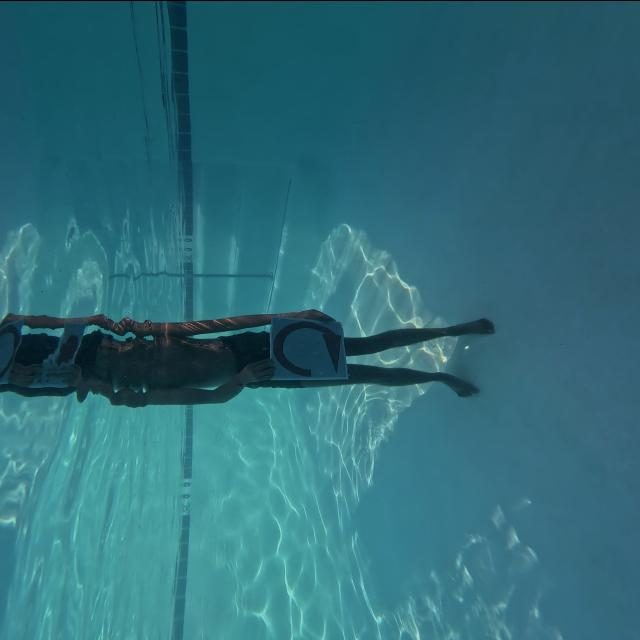red_side: (262, 316, 348, 380)
